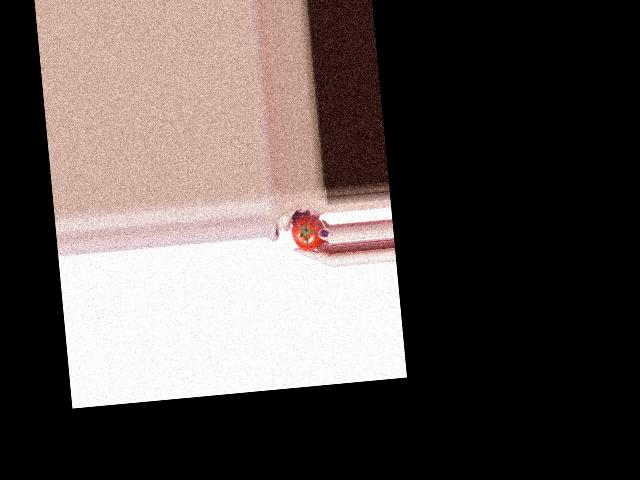tomato: (290, 214, 327, 252)
